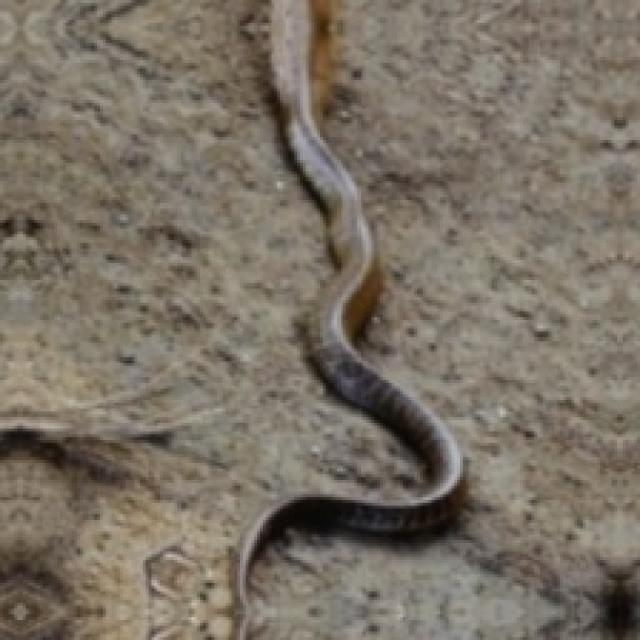philippine cobra: (234, 0, 463, 637)
